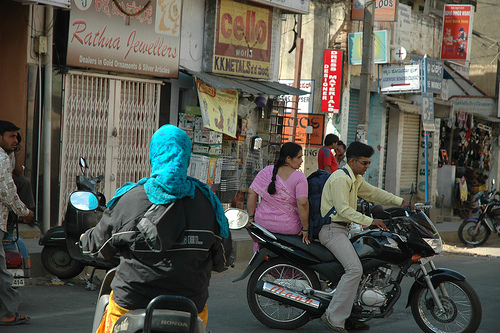without_mask: (347, 149, 372, 176), (283, 147, 304, 171), (1, 126, 19, 154), (324, 133, 339, 150), (334, 143, 347, 159)
